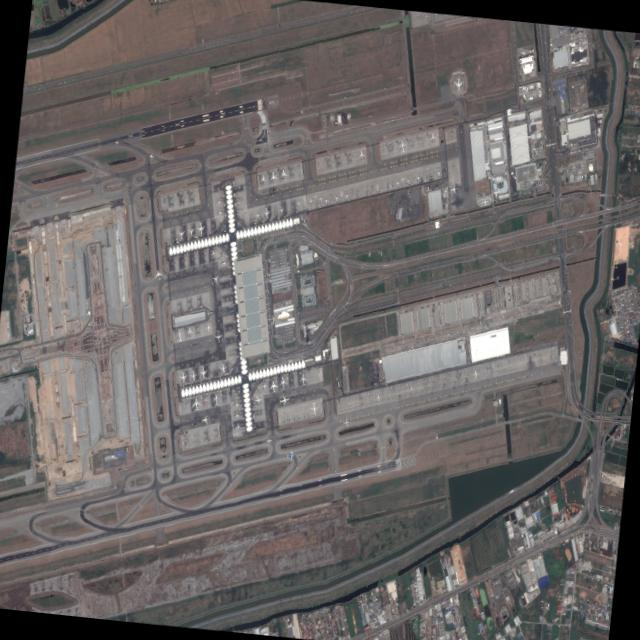plane: (190, 395, 202, 412), (209, 270, 221, 286), (174, 326, 185, 342), (278, 373, 288, 389), (211, 390, 221, 406), (268, 168, 278, 184), (278, 392, 289, 406), (198, 364, 208, 379), (176, 224, 186, 239), (178, 369, 188, 383), (201, 411, 211, 425), (196, 220, 206, 234), (214, 328, 223, 343), (309, 400, 318, 415), (398, 137, 407, 152), (357, 147, 366, 162), (259, 171, 268, 186), (286, 447, 296, 460), (269, 378, 278, 392), (154, 267, 163, 281), (454, 76, 463, 90), (279, 167, 288, 181), (218, 361, 228, 373), (449, 182, 459, 194), (185, 325, 194, 338), (189, 368, 198, 381), (262, 205, 271, 218), (299, 371, 307, 385), (342, 415, 351, 427), (429, 131, 437, 144), (187, 222, 195, 235), (205, 321, 212, 332), (472, 368, 479, 379), (255, 394, 262, 404), (148, 151, 155, 159), (79, 503, 84, 513), (415, 172, 421, 180), (233, 399, 239, 407), (224, 296, 230, 304), (221, 258, 227, 266), (211, 248, 216, 257), (234, 411, 240, 418), (266, 436, 272, 443), (436, 167, 441, 175), (409, 385, 414, 393), (262, 381, 267, 389), (203, 395, 208, 403), (405, 175, 410, 183), (395, 177, 400, 185), (334, 192, 339, 200), (324, 195, 329, 203), (279, 204, 284, 212), (217, 207, 222, 215), (235, 422, 240, 429), (344, 190, 349, 197), (339, 189, 344, 196), (255, 210, 260, 217), (216, 197, 221, 204), (114, 138, 119, 145), (376, 392, 380, 400), (375, 182, 379, 190), (308, 197, 313, 202), (296, 199, 300, 205), (400, 175, 404, 180), (319, 195, 323, 200), (314, 194, 317, 197)
